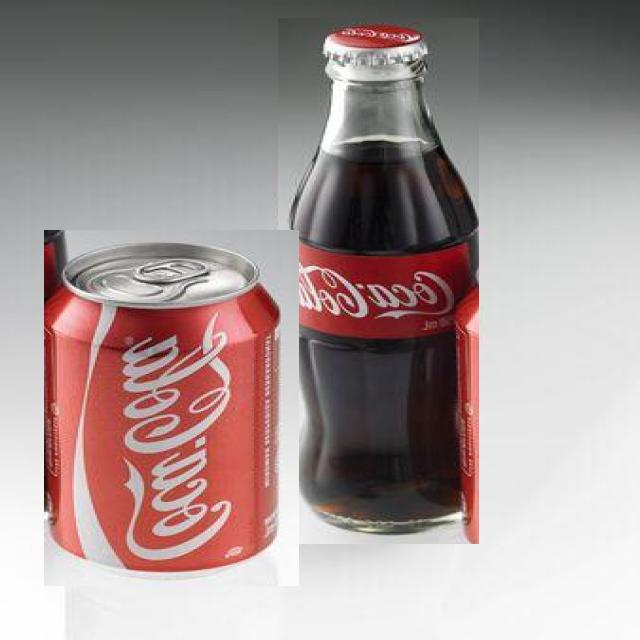coca-cola: (278, 18, 479, 544), (44, 230, 299, 586)
